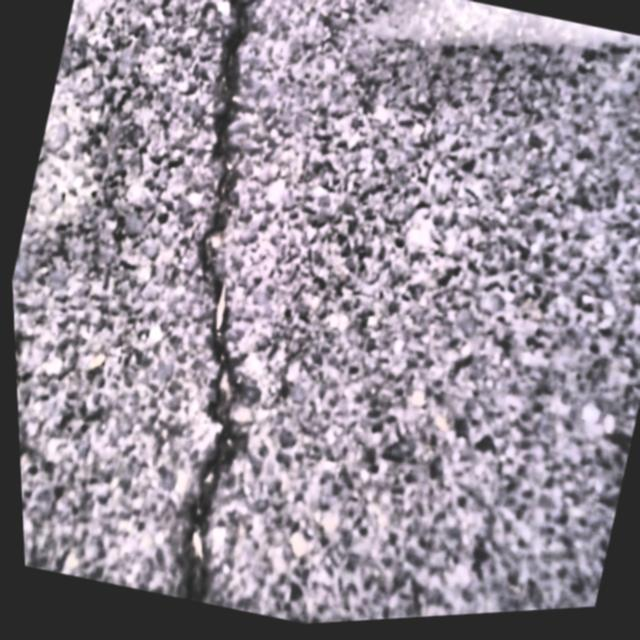cracks: (68, 0, 359, 611)
